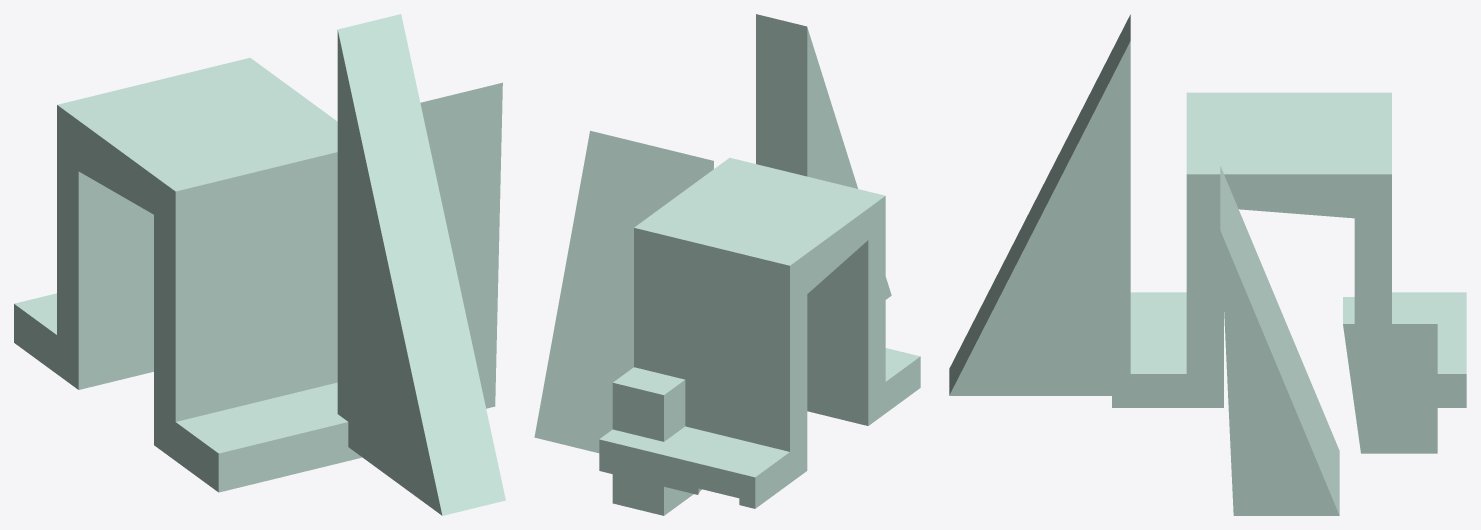
3 views of the same model, side by side, from view 1: azimuth 30°, elevation 25°; view 2: azimuth 150°, elevation 25°; view 3: azimuth 270°, elevation 25° (orthographic). The views are drawn at different scales.
Visible parts, largest first — view 1: Renderer Node; view 2: Renderer Node; view 3: Renderer Node.
Boxes of the visible parts, x1,y1,x2,y2 form: Renderer Node: (14, 14, 505, 515); Renderer Node: (534, 14, 920, 515); Renderer Node: (949, 14, 1466, 515).
Size of the model in its own units: 1.02 by 1.34 by 1.53.
